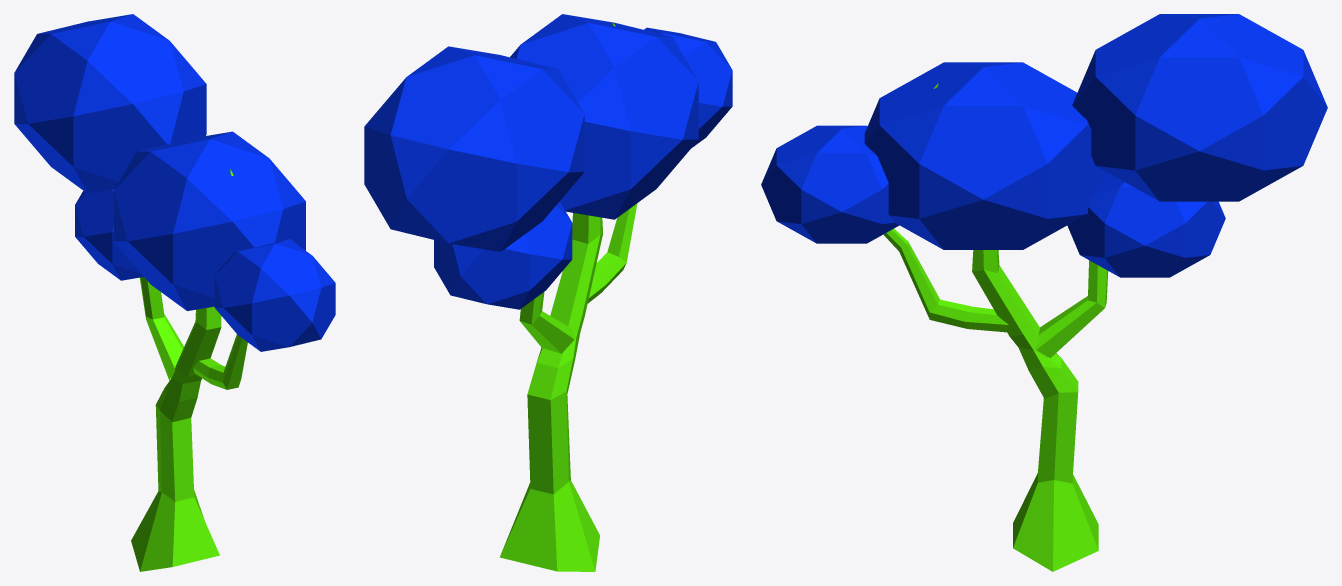
The model's file is Tree.fbx.
The picture shows the model from 3 angles, left to right: view 1: azimuth 30°, elevation 25°; view 2: azimuth 150°, elevation 25°; view 3: azimuth 270°, elevation 25°; orthographic projection. The views are drawn at different scales.
Parts seen in each view (by area): view 1: arbre001; view 2: arbre001; view 3: arbre001.
Part boxes in pixels (box(x1,y1,x2,y2)): arbre001: box(14, 14, 335, 571); arbre001: box(364, 14, 732, 571); arbre001: box(761, 14, 1327, 571).
Size of the model in its own units: 1.06 by 3.03 by 2.92.
